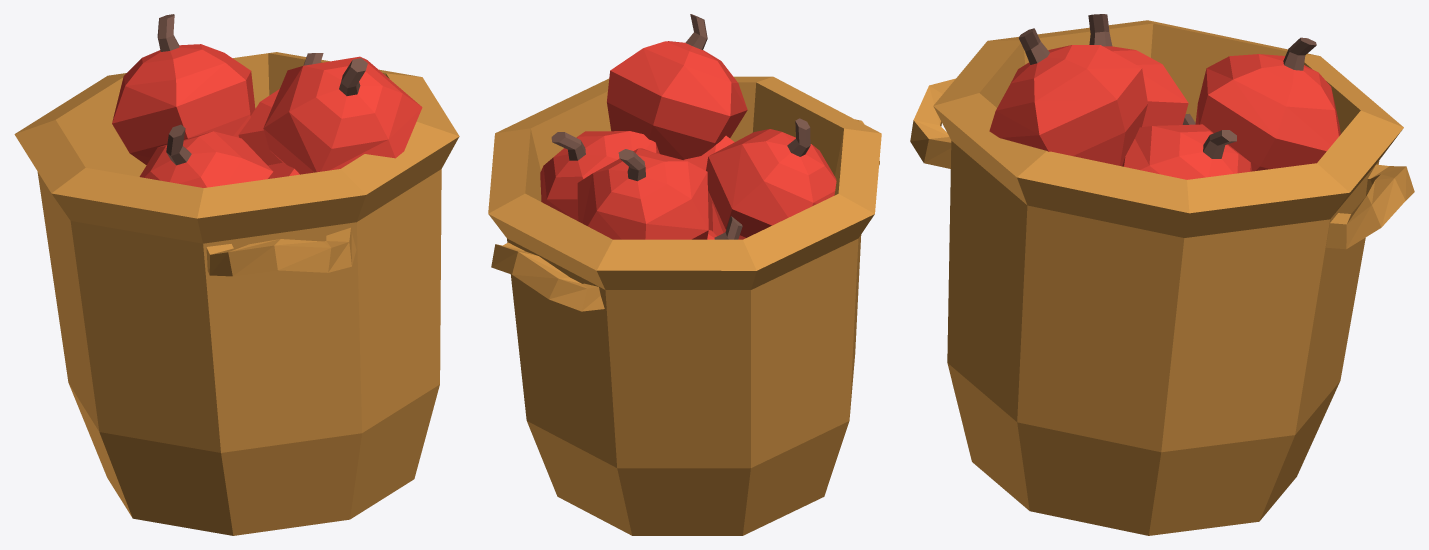
File: apples-1.fbx
3 views of the same model, side by side, from view 1: azimuth 30°, elevation 25°; view 2: azimuth 150°, elevation 25°; view 3: azimuth 270°, elevation 25° (orthographic). The views are drawn at different scales.
Visible parts, largest first — view 1: group_483531598; view 2: group_483531598; view 3: group_483531598.
Boxes of the visible parts, x1,y1,x2,y2 form: group_483531598: (14, 14, 459, 535); group_483531598: (488, 14, 881, 535); group_483531598: (910, 14, 1414, 535).
Size of the model in its own units: 48.07 by 53.61 by 51.3.
